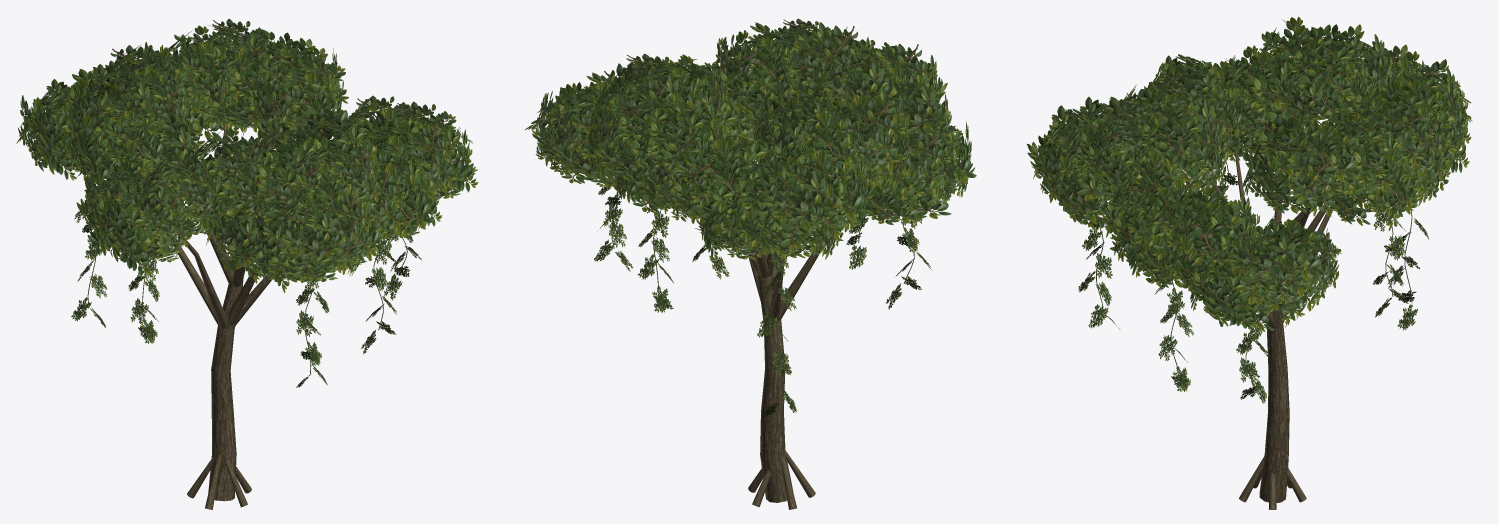
Rendered from tree_05.glb.
3 views of the same model, side by side, from view 1: azimuth 30°, elevation 25°; view 2: azimuth 150°, elevation 25°; view 3: azimuth 270°, elevation 25° (orthographic). The views are drawn at different scales.
Parts seen in each view (by area): view 1: tree_05; view 2: tree_05; view 3: tree_05.
Boxes of the visible parts, box(x1,y1,x2,y2) form: tree_05: box(16, 19, 478, 509); tree_05: box(524, 18, 976, 509); tree_05: box(1026, 16, 1472, 509).
Size of the model in its own units: 10.33 by 10.27 by 10.11.
2 materials, 2 textured.
